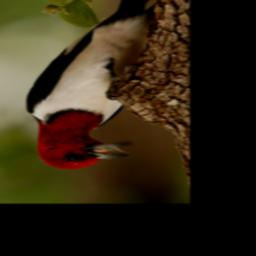Woodpecker: (25, 0, 157, 170)
